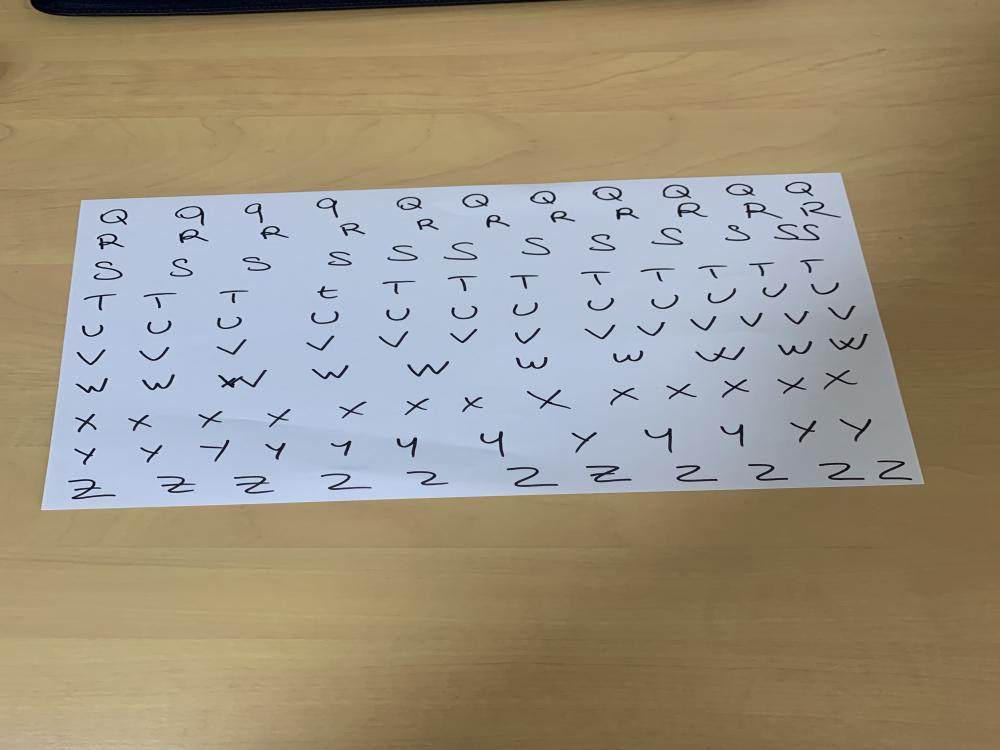9: (312, 196, 347, 221), (172, 205, 210, 227), (241, 201, 267, 224)
Q: (389, 193, 426, 215), (96, 208, 134, 227), (589, 184, 627, 202), (527, 188, 562, 206), (458, 193, 494, 210), (661, 182, 694, 200), (783, 180, 816, 197), (723, 182, 758, 197)
R: (796, 199, 846, 219), (741, 202, 786, 220), (674, 202, 715, 221), (95, 232, 129, 252), (544, 209, 584, 224), (335, 221, 368, 238), (259, 225, 292, 241), (176, 229, 211, 244), (483, 212, 513, 228), (613, 206, 642, 222), (414, 217, 444, 232)
S: (164, 256, 204, 278), (442, 242, 482, 262), (648, 227, 688, 246), (92, 260, 126, 281), (588, 232, 620, 253), (519, 237, 554, 256), (386, 244, 418, 264), (322, 250, 355, 268), (771, 222, 800, 242), (246, 253, 274, 272), (724, 224, 753, 242), (800, 223, 823, 242)
T: (376, 278, 420, 298), (82, 292, 119, 312), (638, 267, 678, 285), (445, 276, 482, 294), (142, 292, 179, 310), (507, 274, 542, 292), (217, 288, 251, 306), (795, 257, 829, 274), (696, 264, 730, 281), (578, 271, 613, 287), (745, 262, 777, 278), (314, 285, 342, 301)
U: (646, 292, 682, 312), (704, 286, 740, 305), (759, 281, 792, 300), (448, 304, 481, 322), (582, 296, 619, 312), (808, 280, 844, 296), (381, 306, 414, 323), (145, 318, 176, 336), (213, 314, 245, 331), (309, 310, 342, 326), (511, 301, 541, 317), (79, 323, 108, 338)
V: (580, 322, 618, 341), (632, 320, 670, 338), (212, 338, 250, 356), (134, 346, 174, 363), (376, 329, 411, 348), (509, 327, 545, 345), (74, 348, 108, 367), (304, 334, 339, 352), (448, 327, 481, 345), (688, 314, 720, 332), (825, 305, 857, 322), (781, 309, 812, 326), (737, 311, 766, 328)
W: (212, 368, 271, 391), (694, 344, 750, 364), (401, 359, 455, 379), (138, 372, 180, 394), (826, 333, 874, 352), (310, 362, 353, 381), (72, 377, 114, 395), (776, 339, 816, 357), (513, 354, 552, 371), (610, 348, 646, 364)
X: (525, 387, 573, 414), (600, 384, 641, 410), (818, 367, 860, 392), (334, 400, 376, 421), (719, 377, 754, 400), (194, 410, 229, 431), (664, 381, 698, 402), (399, 397, 433, 418), (455, 394, 490, 414), (778, 375, 808, 398), (123, 414, 158, 432), (266, 408, 295, 428), (73, 412, 100, 432)
Y: (836, 414, 879, 443), (194, 438, 235, 465), (642, 426, 677, 456), (476, 428, 507, 460), (717, 422, 752, 450), (566, 430, 602, 455), (394, 433, 424, 460), (790, 419, 822, 444), (326, 438, 357, 461), (136, 442, 167, 465), (70, 446, 100, 467), (261, 441, 289, 462)
Z: (505, 465, 562, 488), (317, 470, 376, 492), (66, 478, 120, 500), (232, 474, 281, 496), (816, 461, 867, 482), (584, 464, 636, 484), (404, 468, 456, 488), (672, 464, 722, 483), (745, 462, 791, 482), (155, 475, 200, 495), (876, 460, 914, 481)
